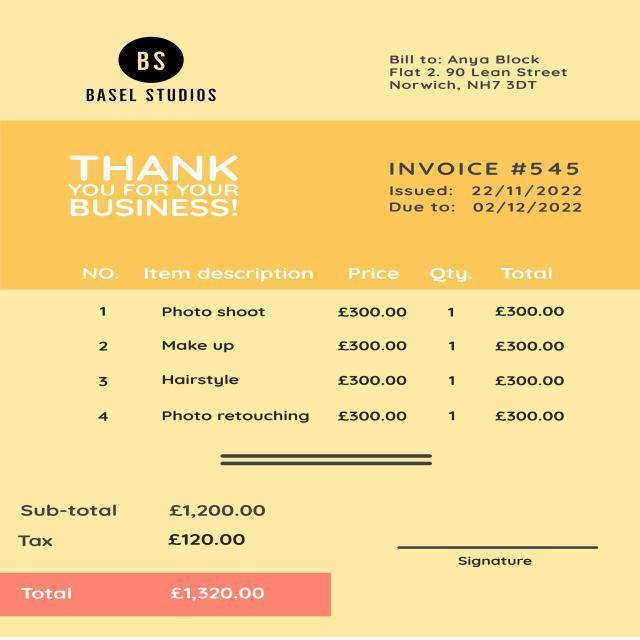ROI: (75, 263, 585, 433), (383, 155, 592, 228), (13, 500, 273, 552), (67, 147, 243, 221), (385, 50, 577, 97), (83, 43, 220, 106), (17, 583, 282, 607), (450, 553, 545, 575)
